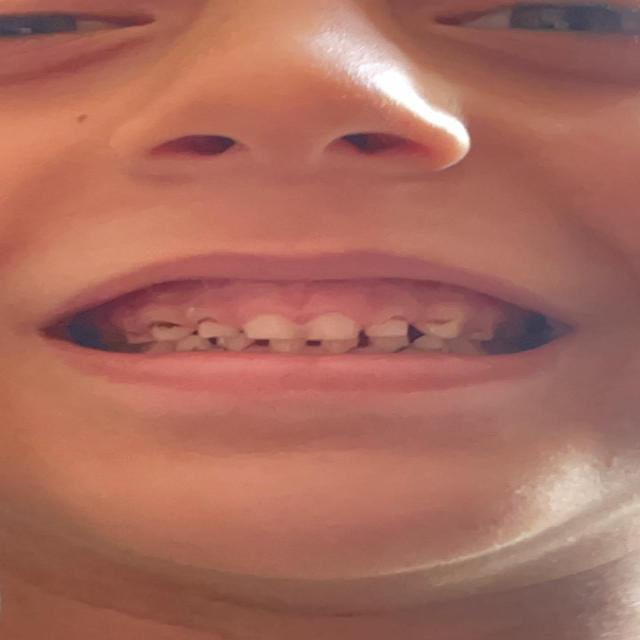tooth: (306, 317, 362, 345), (370, 316, 404, 341), (252, 317, 294, 337), (422, 322, 453, 342), (465, 324, 491, 342), (196, 321, 225, 335), (152, 323, 176, 335)
